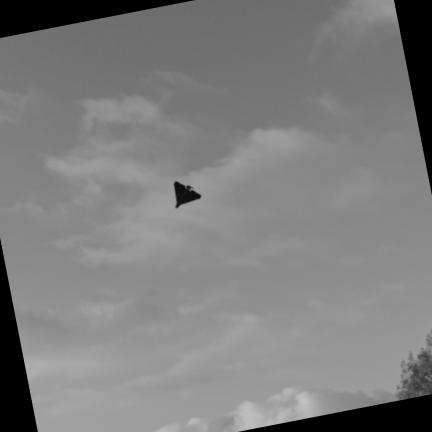Shahed: (176, 181, 201, 207)
